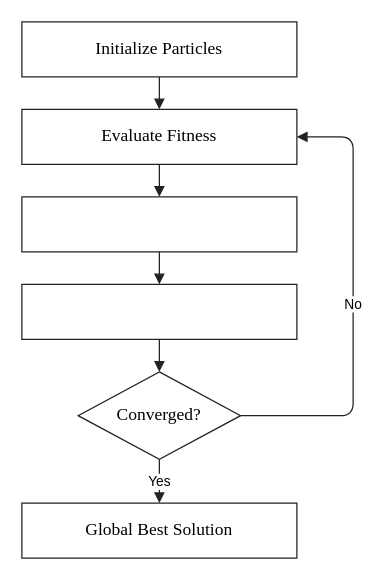
Some shapes in this 385 by 580 pixel diagram are drawn without their labels. The shapes that lost their labels are listed below. From the top down, each one's centre as x and y in pixels, then its label:
At point (159, 224): "Update Personal / Global Best".
At point (159, 311): "Update Velocity and Position".
